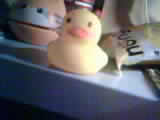duck: (37, 8, 121, 80)
